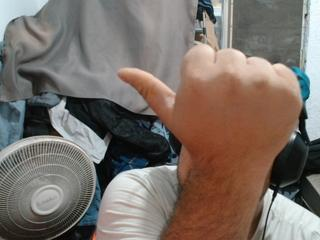Derecha: (110, 32, 320, 185)
